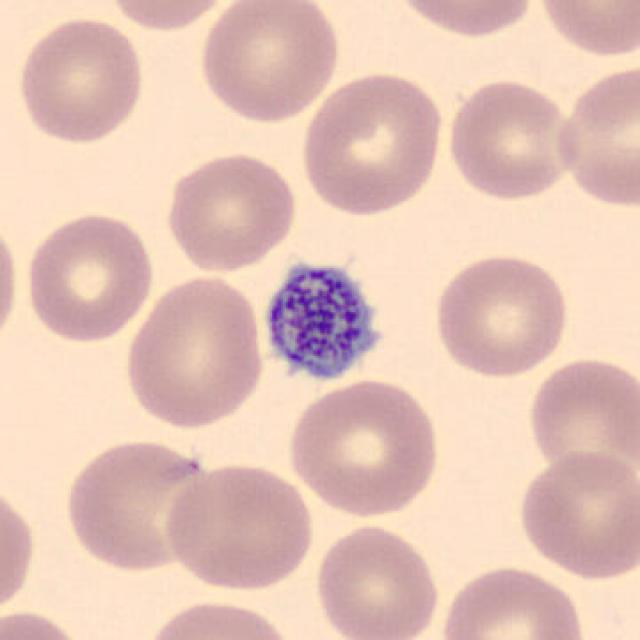Platelets: (255, 253, 392, 387)
RBC: (121, 270, 268, 432), (284, 374, 444, 520), (297, 67, 448, 219), (61, 434, 215, 576), (160, 458, 318, 594), (194, 0, 345, 125), (22, 208, 158, 346), (430, 248, 572, 380), (14, 12, 148, 146), (443, 76, 581, 203), (162, 148, 300, 275), (514, 448, 638, 582), (311, 520, 445, 640), (523, 351, 638, 483), (551, 62, 638, 210), (438, 562, 590, 640), (140, 596, 298, 640), (534, 0, 638, 60), (388, 0, 538, 41), (0, 476, 39, 619), (99, 0, 238, 33), (0, 210, 23, 354), (0, 606, 90, 640)
